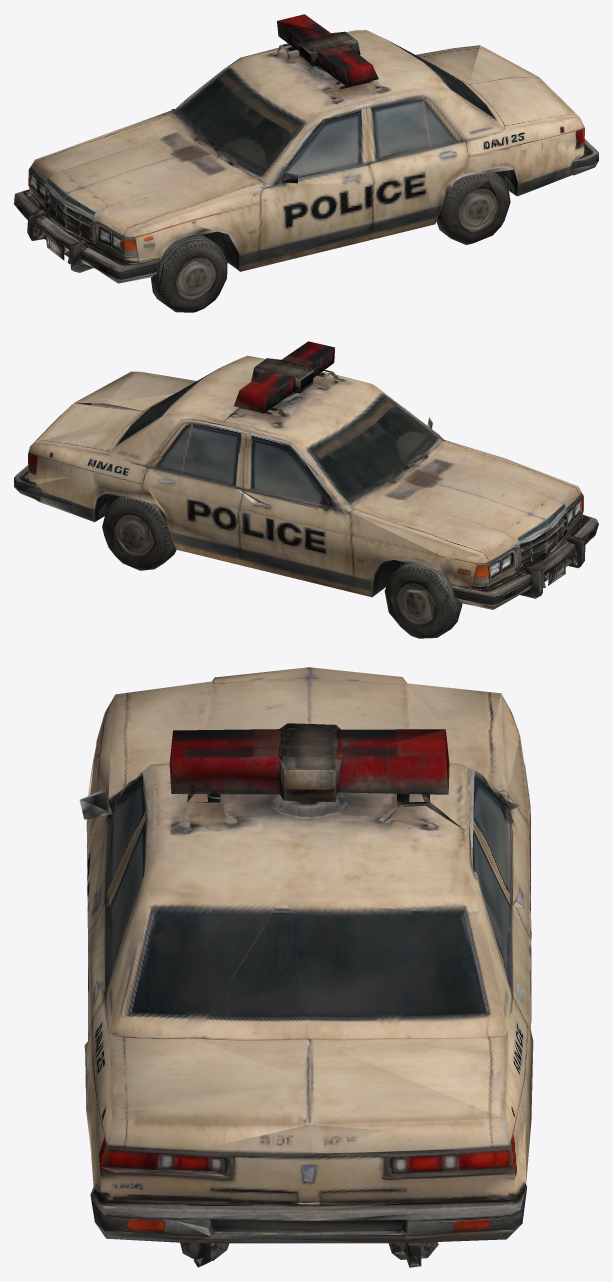
File: car_police_light.glb
3 views of the same model, one above another, from view 1: azimuth 30°, elevation 25°; view 2: azimuth 150°, elevation 25°; view 3: azimuth 270°, elevation 25° (orthographic). The views are drawn at different scales.
Visible parts, largest first — view 1: output_unwrapped; view 2: output_unwrapped; view 3: output_unwrapped.
Boxes of the visible parts, box(x1,y1,x2,y2) form: output_unwrapped: box(14, 14, 598, 312); output_unwrapped: box(14, 341, 598, 638); output_unwrapped: box(79, 667, 533, 1267).
Size of the model in its own units: 4.04 by 1.45 by 1.57.
1 material, 1 textured.
